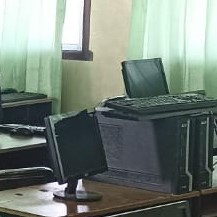monitor: (106, 57, 216, 114), (44, 109, 108, 202), (121, 57, 170, 99)
